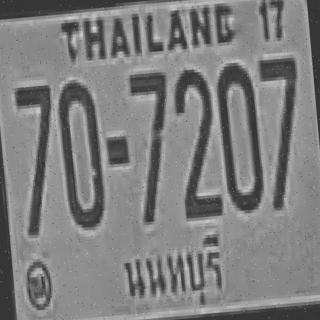N00: (55, 78, 106, 229), (214, 58, 264, 212)
N02: (171, 65, 221, 216)
N07: (126, 67, 177, 221), (256, 53, 307, 207), (12, 82, 62, 236)
P37: (121, 226, 229, 309)
